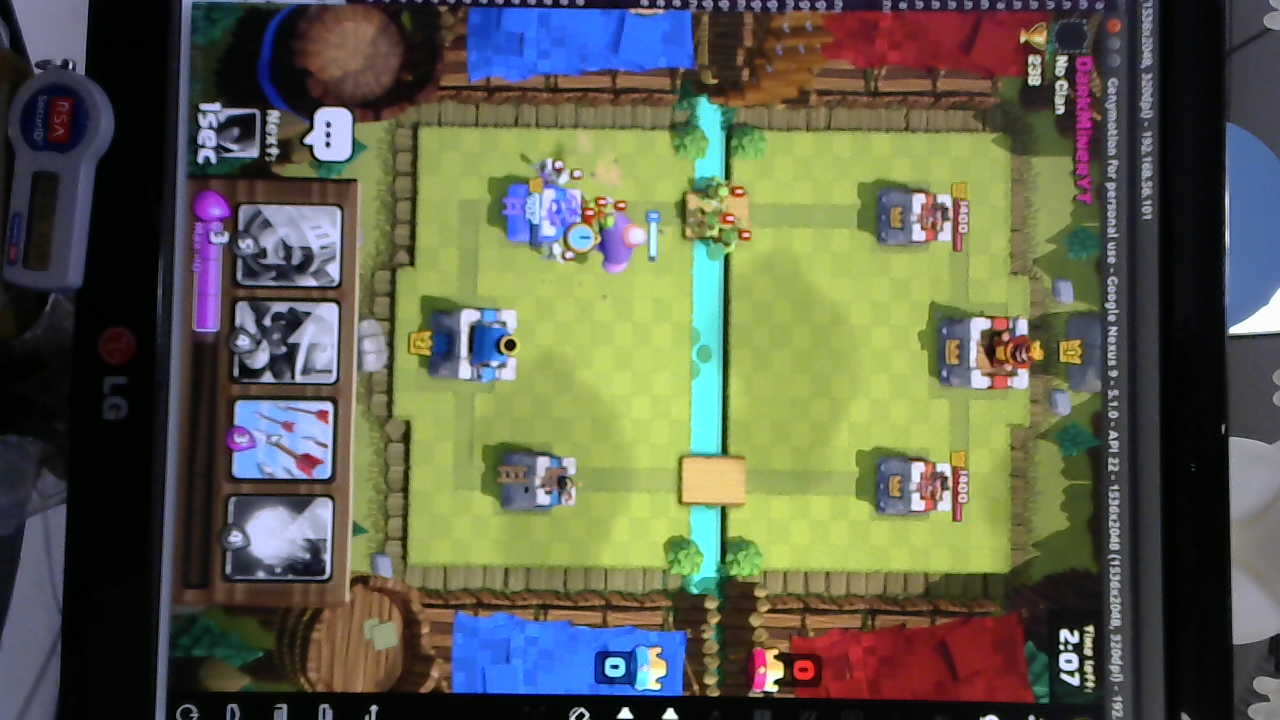arena: (500, 179, 589, 248), (492, 449, 582, 512)
earena: (870, 186, 956, 247), (879, 456, 958, 520)
eking: (943, 312, 1039, 392)
giant: (593, 205, 645, 273)
goblin: (577, 196, 619, 230)
king: (431, 308, 521, 383)
skeleton: (533, 150, 581, 187)
speargoblins: (688, 175, 749, 256)
